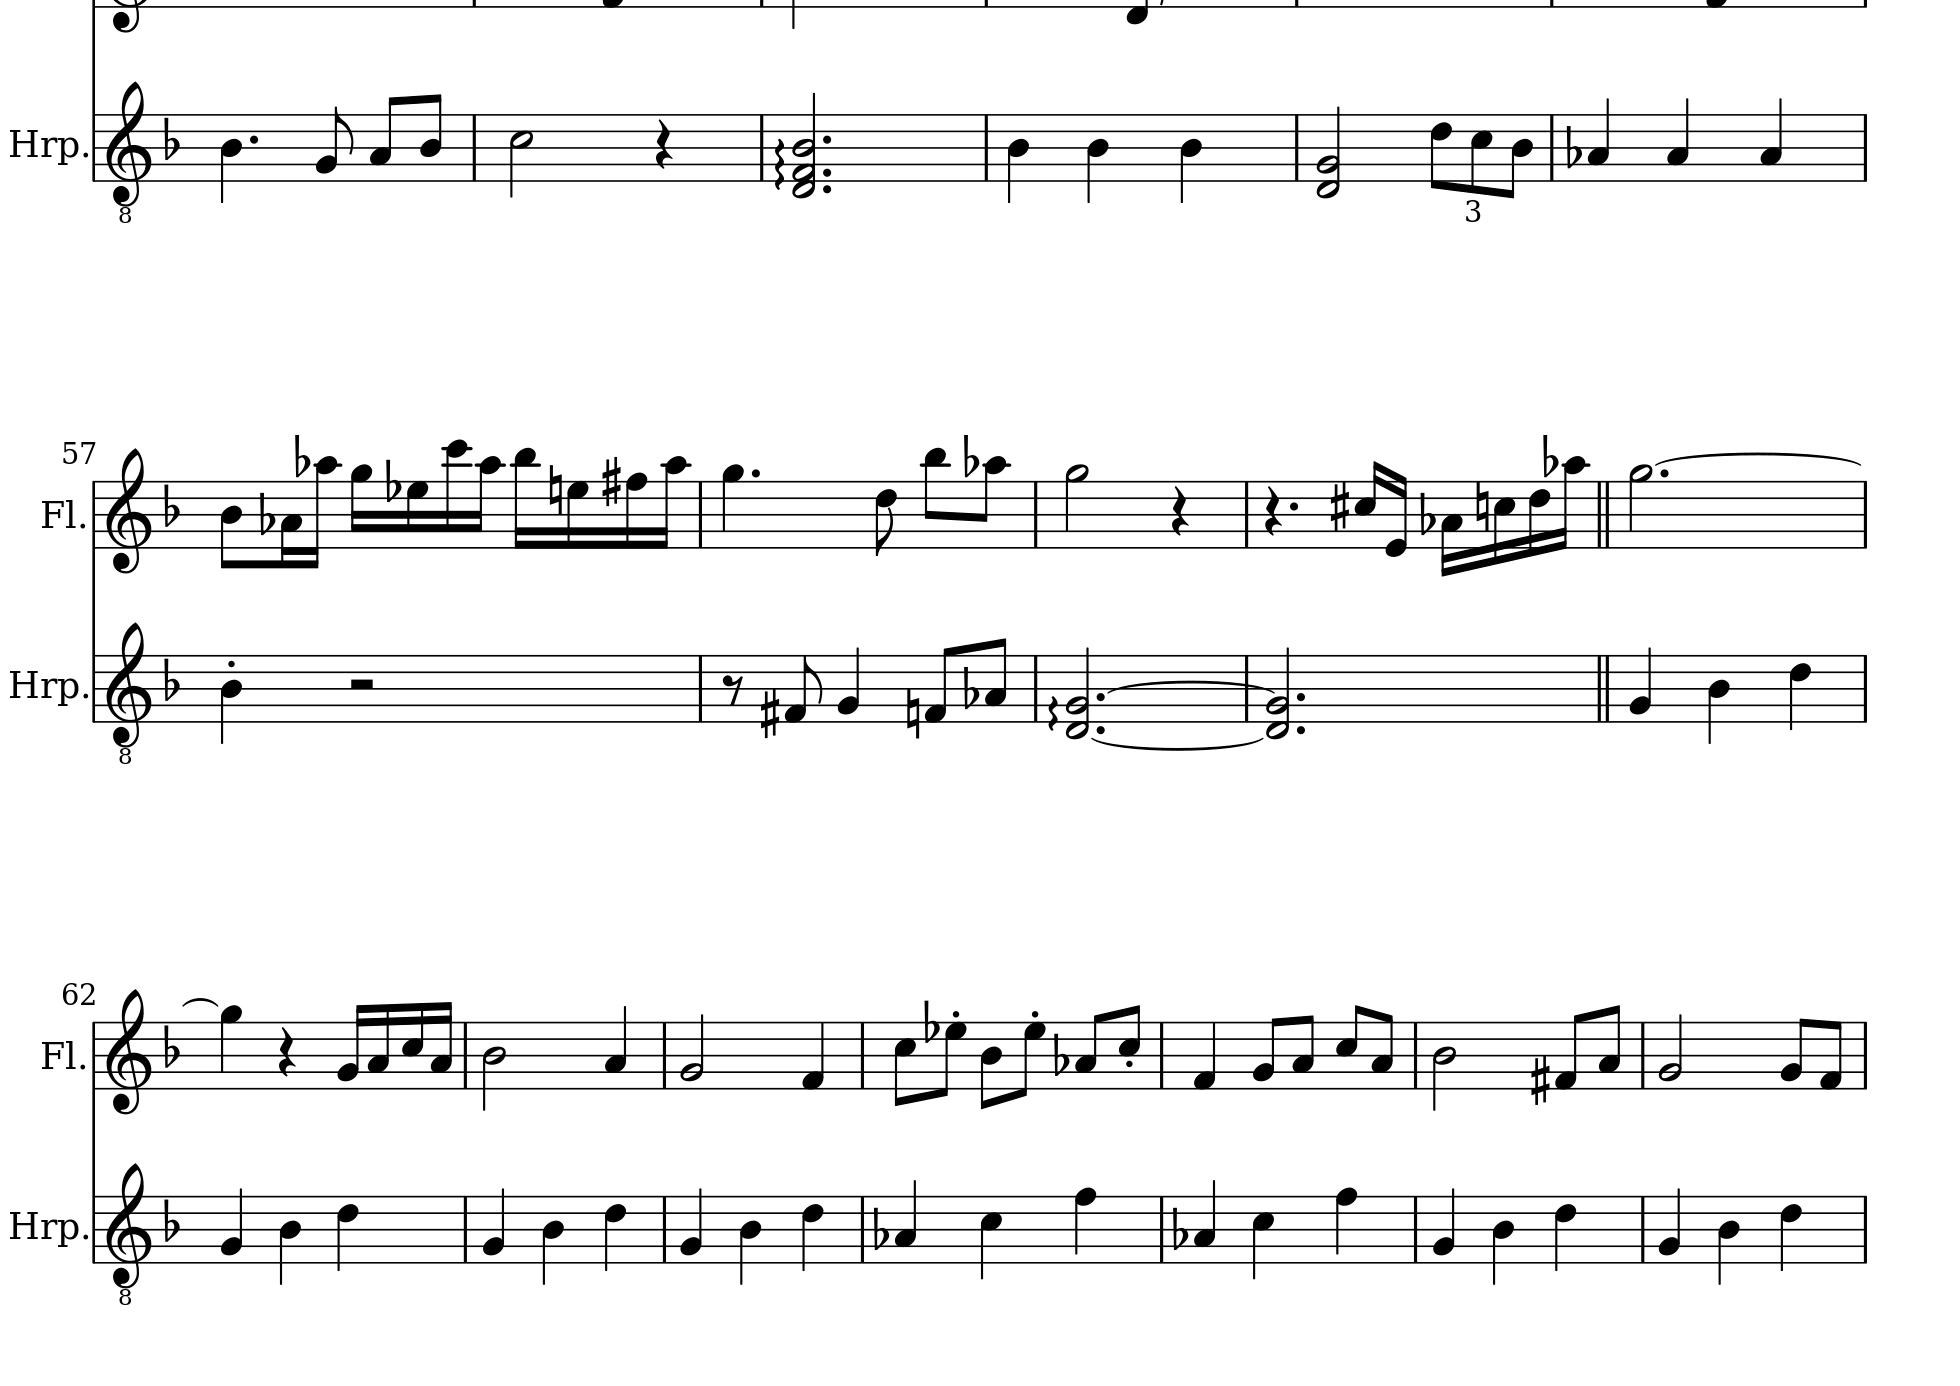16_0: (1383, 469, 1410, 558)
16_10: (306, 453, 340, 570), (655, 454, 691, 550), (1555, 454, 1590, 553), (472, 454, 502, 550)
16_11: (511, 445, 538, 552)
16_12: (442, 438, 471, 549)
16_2: (334, 1000, 366, 1090)
16_3: (1440, 478, 1464, 577), (366, 1000, 391, 1090), (429, 999, 453, 1089), (280, 480, 301, 568)
16_5: (1353, 457, 1381, 549), (400, 1000, 424, 1090), (1492, 478, 1515, 565)
16_6: (1527, 478, 1551, 558)
16_7: (403, 478, 429, 550), (565, 478, 589, 550)
16_8: (622, 471, 648, 553)
16_9: (348, 463, 372, 550)
2: (78, 979, 97, 1006)
2_-1_2: (1315, 103, 1342, 199), (1065, 646, 1092, 742), (1266, 646, 1291, 742)
2_2: (1657, 1011, 1686, 1090), (678, 1011, 706, 1089)
2_4: (480, 1018, 507, 1111), (1431, 1018, 1458, 1111)
2_5: (507, 112, 534, 198)
2_9: (1063, 462, 1090, 550), (1626, 462, 1653, 550)
3: (1464, 196, 1482, 223)
4_1: (1191, 1020, 1218, 1090), (801, 1020, 826, 1092)
4_2: (835, 645, 862, 724), (1431, 1185, 1458, 1264), (1629, 645, 1654, 724), (481, 1185, 507, 1264), (1657, 1185, 1683, 1264), (678, 1186, 703, 1264), (220, 1185, 244, 1264)
4_3: (1587, 96, 1614, 184), (1665, 96, 1692, 183), (892, 1179, 919, 1264), (1759, 96, 1785, 183), (603, 1005, 628, 1090), (1194, 1179, 1218, 1264)
4_4: (1179, 111, 1204, 205), (219, 652, 244, 745), (277, 1192, 303, 1285), (1006, 112, 1032, 204), (738, 1194, 763, 1285), (1716, 1194, 1741, 1285), (540, 1194, 565, 1284), (219, 111, 243, 204), (1707, 652, 1731, 745), (1086, 112, 1110, 204), (1491, 1194, 1515, 1285)
4_5: (978, 1194, 1003, 1281), (1251, 1192, 1275, 1281)
4_6: (601, 1192, 627, 1273), (799, 1192, 825, 1273), (1788, 652, 1812, 733), (1554, 1194, 1578, 1273), (1779, 1192, 1803, 1272), (336, 1192, 360, 1270)
4_8: (1333, 1183, 1359, 1266), (1074, 1185, 1098, 1266)
4_9: (718, 462, 745, 550), (217, 1002, 243, 1090)
4_th: (790, 88, 819, 199)
6: (61, 979, 79, 1006)
7: (79, 438, 97, 465)
8_1: (783, 652, 825, 724), (1554, 1009, 1588, 1090), (924, 643, 955, 724), (1819, 1018, 1845, 1092)
8_10: (975, 454, 1009, 550)
8_11: (922, 445, 949, 549)
8_2: (313, 103, 352, 181), (1779, 1015, 1812, 1090), (1251, 1015, 1282, 1090)
8_3: (367, 94, 400, 184), (1075, 1009, 1107, 1090), (1596, 1003, 1623, 1089), (984, 636, 1009, 724), (1371, 1009, 1395, 1090), (1291, 1012, 1315, 1092)
8_4: (1503, 112, 1536, 199), (978, 1020, 1005, 1111), (418, 91, 444, 184), (217, 478, 243, 571)
8_5: (1335, 1002, 1365, 1090), (1468, 111, 1494, 195), (892, 1020, 916, 1108), (1119, 1002, 1143, 1090)
8_6: (1428, 111, 1453, 190), (873, 478, 898, 556)
8_7: (1014, 1018, 1047, 1099), (934, 1018, 967, 1098)
Arpeggio: (772, 132, 787, 192)
Double_barline: (1594, 478, 1615, 547), (1593, 654, 1614, 721)
Fl: (37, 1036, 78, 1074), (37, 496, 76, 531)
Flat: (160, 114, 181, 160), (160, 481, 181, 528), (160, 655, 181, 702), (1563, 121, 1582, 171), (1540, 430, 1560, 478), (162, 1195, 181, 1243), (1170, 1204, 1189, 1252), (256, 489, 274, 537), (382, 456, 400, 504), (961, 430, 979, 478), (961, 663, 979, 711), (162, 1021, 180, 1069), (871, 1204, 889, 1252), (292, 432, 310, 478), (1419, 490, 1437, 537), (1051, 1030, 1069, 1077), (922, 997, 939, 1044)
Gclef: (103, 985, 153, 1117), (103, 445, 150, 576)
Hn: (7, 1204, 82, 1249)
Hrp: (7, 124, 81, 166)
Lower_Gclef: (103, 619, 151, 766), (103, 1159, 151, 1306), (103, 79, 151, 225)
Natural: (546, 463, 564, 517), (904, 685, 922, 739), (1474, 478, 1491, 534)
Rests2: (346, 675, 376, 693)
Rests4: (1261, 484, 1284, 540), (276, 1024, 298, 1078), (652, 117, 673, 172), (1170, 484, 1191, 538)
Rests8: (721, 672, 744, 706)
Sharp: (1327, 480, 1351, 532), (600, 454, 622, 508), (1528, 1053, 1551, 1107), (759, 687, 781, 739)
Single_barline: (1854, 112, 1875, 181), (976, 114, 996, 180), (1407, 1020, 1425, 1087), (853, 1021, 871, 1089), (691, 655, 709, 721), (466, 112, 483, 181), (1857, 1021, 1873, 1090), (87, 112, 103, 180), (753, 114, 769, 181), (1543, 114, 1560, 181), (85, 480, 102, 547), (1239, 480, 1255, 547), (87, 654, 103, 721), (1857, 654, 1873, 721), (1027, 480, 1044, 546), (1239, 655, 1255, 721), (457, 1021, 474, 1087), (1155, 1021, 1171, 1087), (657, 1021, 673, 1087), (1153, 1195, 1170, 1261), (1408, 1195, 1425, 1261), (1857, 1195, 1873, 1261), (657, 1195, 673, 1261), (853, 1195, 870, 1261), (693, 481, 709, 546), (87, 1194, 102, 1263), (1029, 654, 1044, 721), (87, 1021, 102, 1089), (1290, 114, 1305, 180), (1636, 1195, 1651, 1261), (457, 1195, 472, 1261), (1638, 1020, 1651, 1087), (1858, 481, 1872, 547)
Slur: (1659, 451, 1864, 466), (1089, 736, 1267, 753), (1105, 679, 1282, 693), (181, 996, 219, 1009)
Tpt: (7, 664, 79, 708)
dot: (246, 130, 261, 145), (820, 181, 834, 196), (1093, 688, 1107, 703), (1294, 688, 1308, 703), (748, 466, 762, 480), (1657, 466, 1671, 480), (1294, 721, 1308, 735), (820, 132, 832, 147), (820, 165, 832, 178), (1288, 499, 1302, 511), (1095, 721, 1107, 733)
